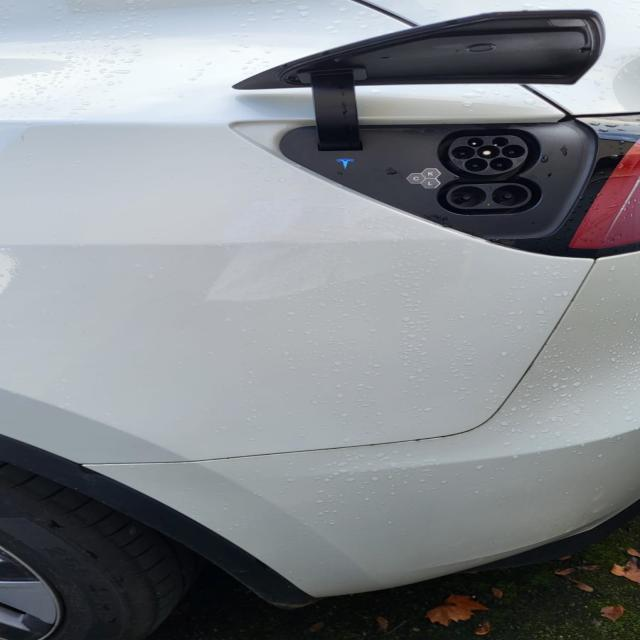inlet: (449, 135, 528, 175)
inlet-above-left: (468, 138, 483, 147)
inlet-above-right: (492, 137, 508, 146)
inlet-below-left: (464, 158, 488, 172)
inlet-below-right: (489, 157, 513, 171)
inlet-circle: (476, 145, 500, 159)
inlet-circle-left: (452, 146, 475, 159)
inlet-circle-right: (502, 145, 525, 158)
inlet-minus: (492, 185, 528, 206)
inlet-plus: (450, 186, 486, 207)
